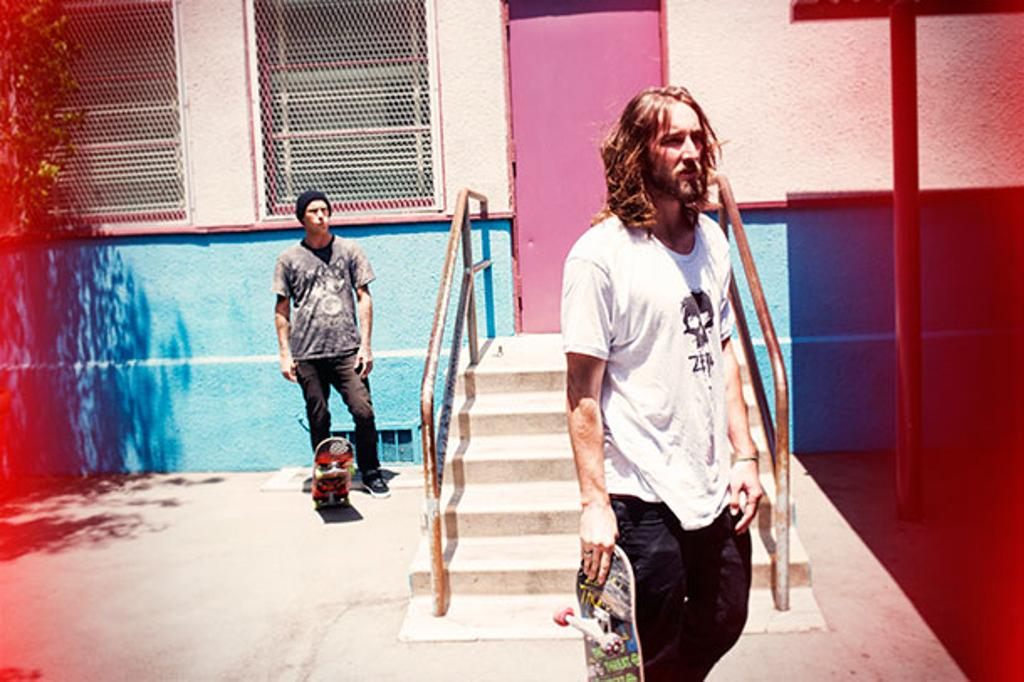face: (648, 109, 704, 200), (304, 201, 328, 233)
